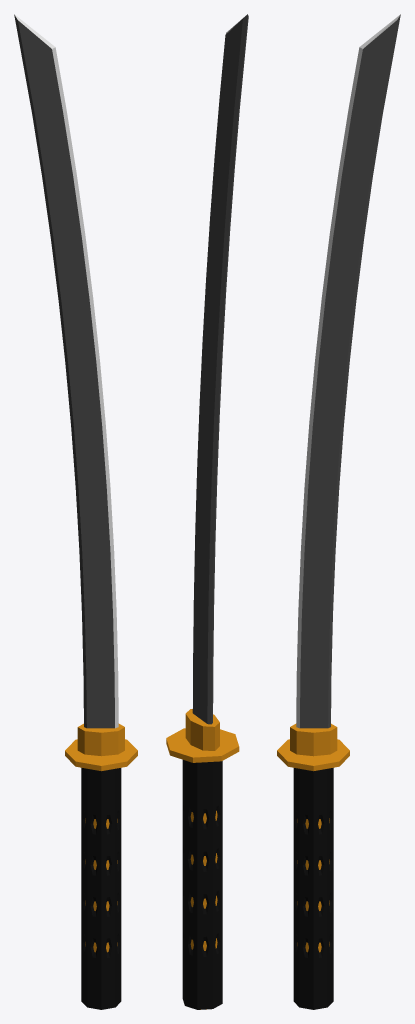
The model's file is Katana.obj.
3 views of the same model, side by side, from view 1: azimuth 90°, elevation 25°; view 2: azimuth 210°, elevation 25°; view 3: azimuth 270°, elevation 25° (orthographic). The views are drawn at different scales.
Parts seen in each view (by area): view 1: Katana_Plane.006; view 2: Katana_Plane.006; view 3: Katana_Plane.006.
Boxes of the visible parts, left/top/right/bottom form: Katana_Plane.006: left=14, top=14, right=137, bottom=1009; Katana_Plane.006: left=166, top=14, right=248, bottom=1009; Katana_Plane.006: left=277, top=14, right=400, bottom=1009.
Size of the model in its own units: 0.0559 by 0.8346 by 0.0948.
